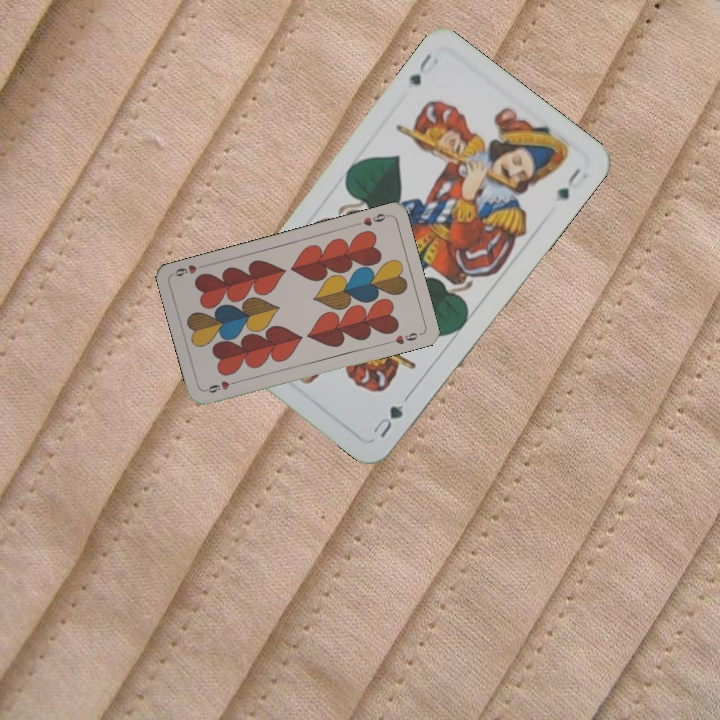GU: (369, 399, 406, 441), (405, 48, 441, 88)
H9: (352, 209, 392, 229), (202, 376, 242, 396)
